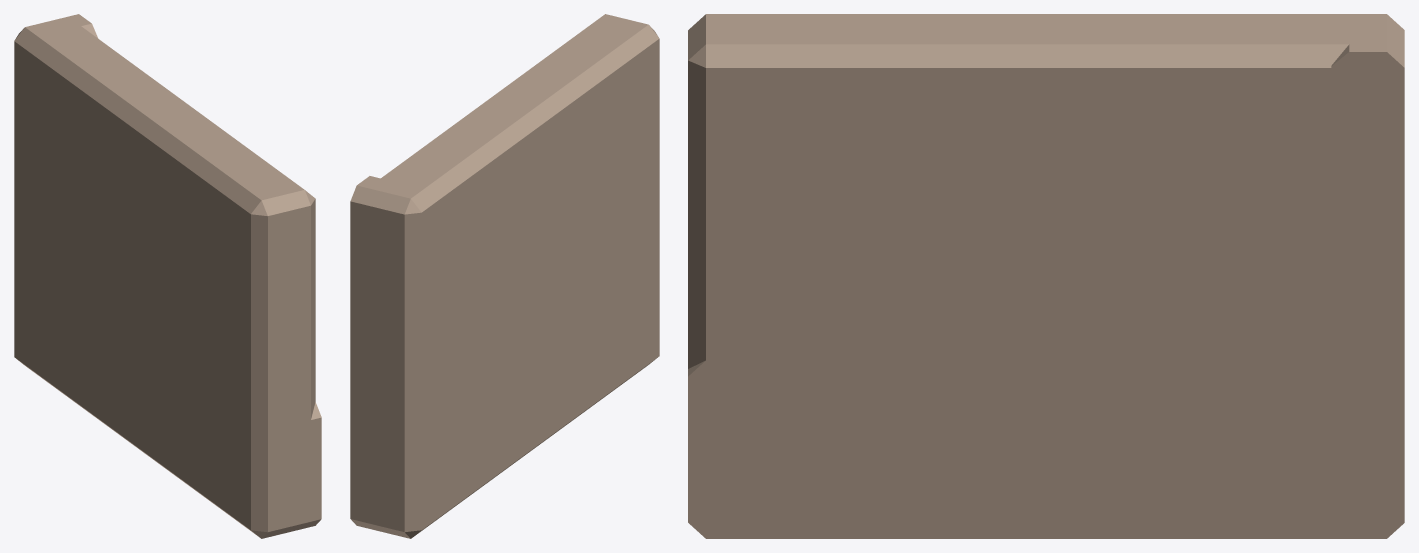
Rendered from Prop_Living_Room_Modular_Couch_End.obj.
3 renders of one model, left to right at view 1: azimuth 30°, elevation 25°; view 2: azimuth 150°, elevation 25°; view 3: azimuth 270°, elevation 25°, orthographic. The views are drawn at different scales.
Parts seen in each view (by area): view 1: object1; view 2: object1; view 3: object1.
Boxes of the visible parts, x1=… form: object1: x1=14, y1=14, x2=321, y2=538; object1: x1=350, y1=14, x2=659, y2=538; object1: x1=688, y1=14, x2=1404, y2=538.
Bounding box in the file's own units: 0.15 × 0.75 × 1.
